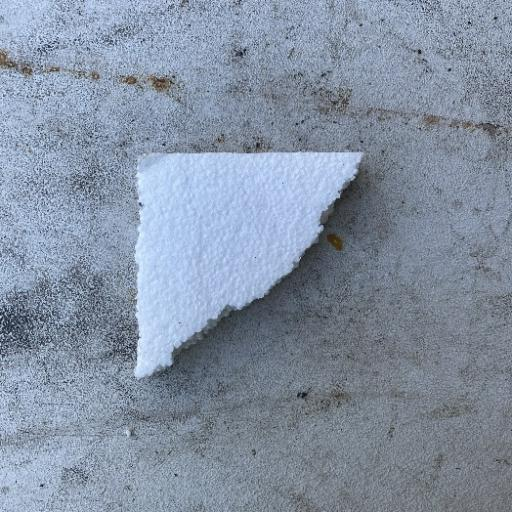Plastic: (130, 149, 365, 381)
